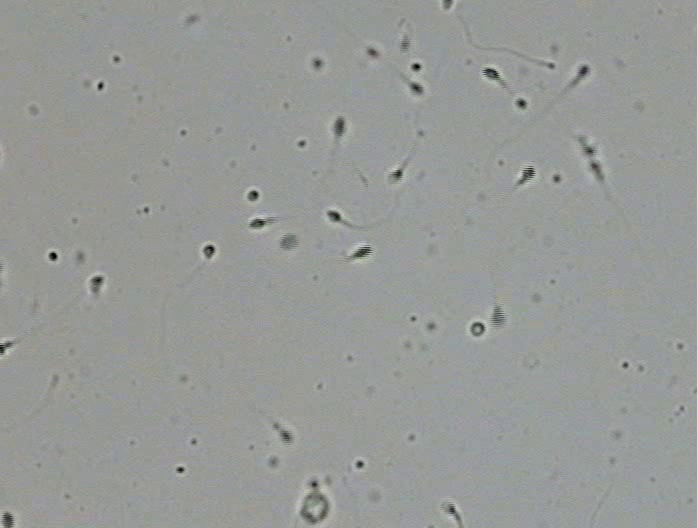Impurity: (299, 479, 331, 524)
S: (490, 306, 507, 327), (351, 245, 373, 260), (279, 234, 299, 250), (521, 165, 536, 184), (333, 117, 346, 137), (90, 276, 104, 294), (482, 67, 500, 81), (470, 322, 486, 337), (1, 511, 15, 528), (580, 142, 596, 156), (590, 161, 603, 178), (441, 501, 456, 515), (388, 169, 403, 183), (326, 210, 342, 223), (248, 218, 266, 229), (202, 245, 216, 259), (280, 429, 293, 444), (409, 82, 424, 95), (576, 65, 589, 79), (1, 340, 12, 355), (399, 37, 409, 52), (247, 190, 259, 202), (366, 47, 379, 58), (515, 99, 527, 108), (443, 1, 453, 10), (313, 59, 322, 68), (411, 63, 421, 71)
